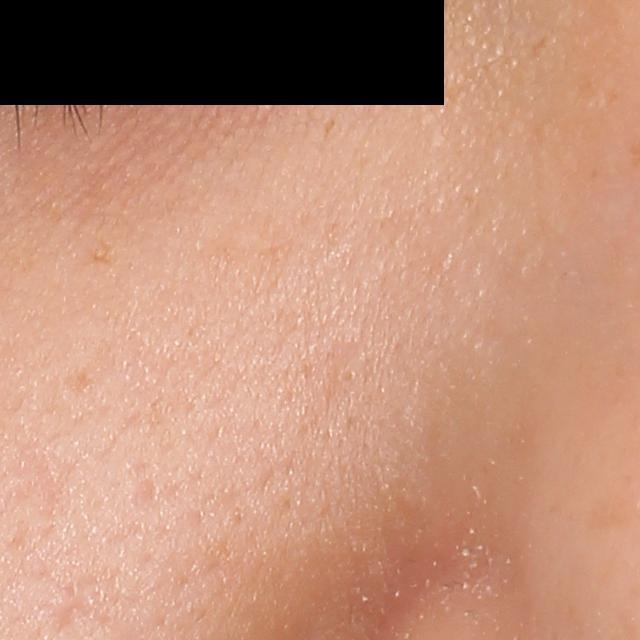atrophic_scar: (50, 574, 101, 633), (127, 461, 163, 514)
comedo: (336, 362, 361, 385)
melasma: (92, 239, 118, 265), (532, 34, 551, 61)
